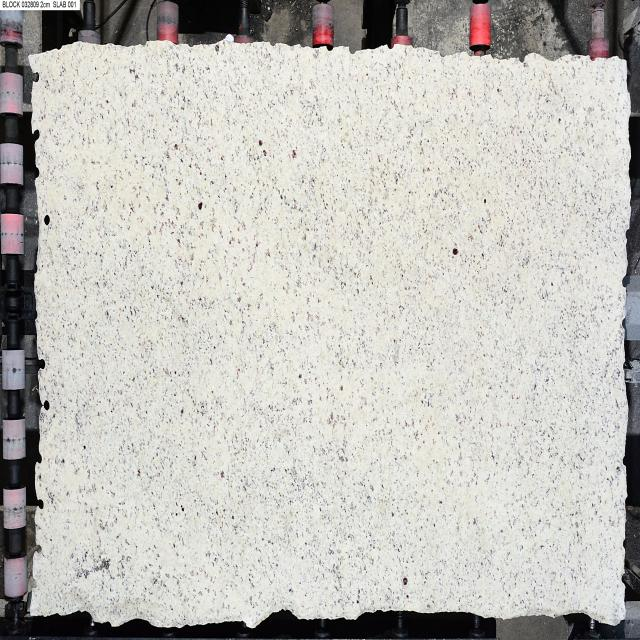chapa: (30, 43, 630, 627)
veio: (30, 65, 42, 85), (31, 162, 42, 183), (42, 212, 52, 230), (31, 126, 41, 142), (36, 356, 46, 372), (34, 540, 43, 556), (42, 399, 51, 414), (53, 41, 64, 53), (34, 450, 42, 466), (36, 497, 45, 511), (31, 576, 38, 592), (518, 54, 526, 64)
